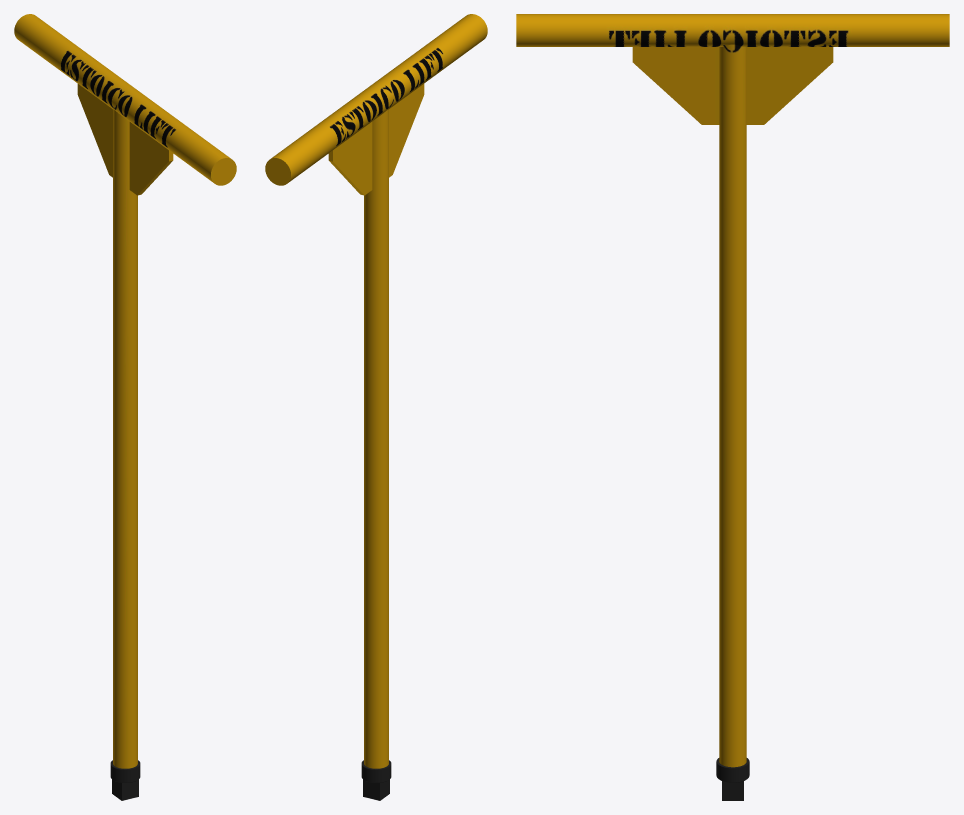
The model's file is LLV-TPR-001.glb.
3 views of the same model, side by side, from view 1: azimuth 30°, elevation 25°; view 2: azimuth 150°, elevation 25°; view 3: azimuth 270°, elevation 25° (orthographic). The views are drawn at different scales.
Parts seen in each view (by area): view 1: POSTE LLAVE T-1, TRAVESAÑO LLAVE T-1, CARTABONES LLAVE T+-2, CARTABONES LLAVE T+-1, DADO INFERIOR-1; view 2: POSTE LLAVE T-1, TRAVESAÑO LLAVE T-1, CARTABONES LLAVE T+-1, CARTABONES LLAVE T+-2, DADO INFERIOR-1; view 3: POSTE LLAVE T-1, TRAVESAÑO LLAVE T-1, CARTABONES LLAVE T+-1, CARTABONES LLAVE T+-2, DADO INFERIOR-1.
Part boxes in pixels (bbox=[...]): POSTE LLAVE T-1: bbox=[113, 109, 137, 768]; TRAVESAÑO LLAVE T-1: bbox=[14, 14, 236, 185]; CARTABONES LLAVE T+-2: bbox=[129, 122, 173, 195]; CARTABONES LLAVE T+-1: bbox=[77, 84, 112, 177]; DADO INFERIOR-1: bbox=[110, 760, 140, 800]; POSTE LLAVE T-1: bbox=[364, 109, 388, 768]; TRAVESAÑO LLAVE T-1: bbox=[265, 14, 487, 185]; CARTABONES LLAVE T+-1: bbox=[328, 122, 372, 195]; CARTABONES LLAVE T+-2: bbox=[389, 84, 424, 177]; DADO INFERIOR-1: bbox=[361, 760, 391, 800]; POSTE LLAVE T-1: bbox=[719, 44, 746, 767]; TRAVESAÑO LLAVE T-1: bbox=[516, 14, 949, 46]; CARTABONES LLAVE T+-1: bbox=[746, 47, 833, 124]; CARTABONES LLAVE T+-2: bbox=[632, 47, 719, 124]; DADO INFERIOR-1: bbox=[716, 758, 749, 800].
Bounding box in the file's own units: 0.0381 × 0.9944 × 0.5.
Materials: 5 (3 with a texture image).
